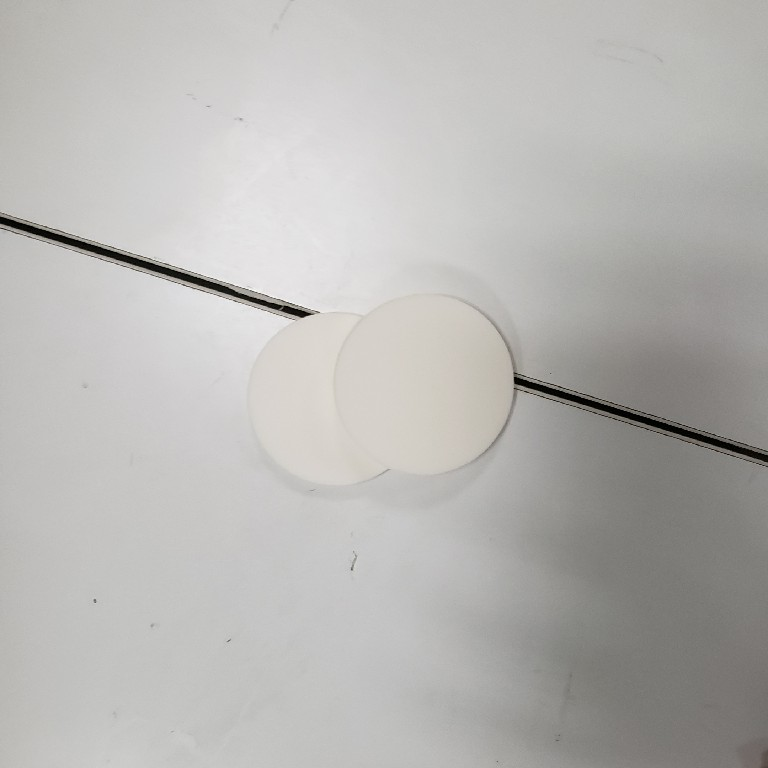ceramics: (244, 294, 516, 489)
